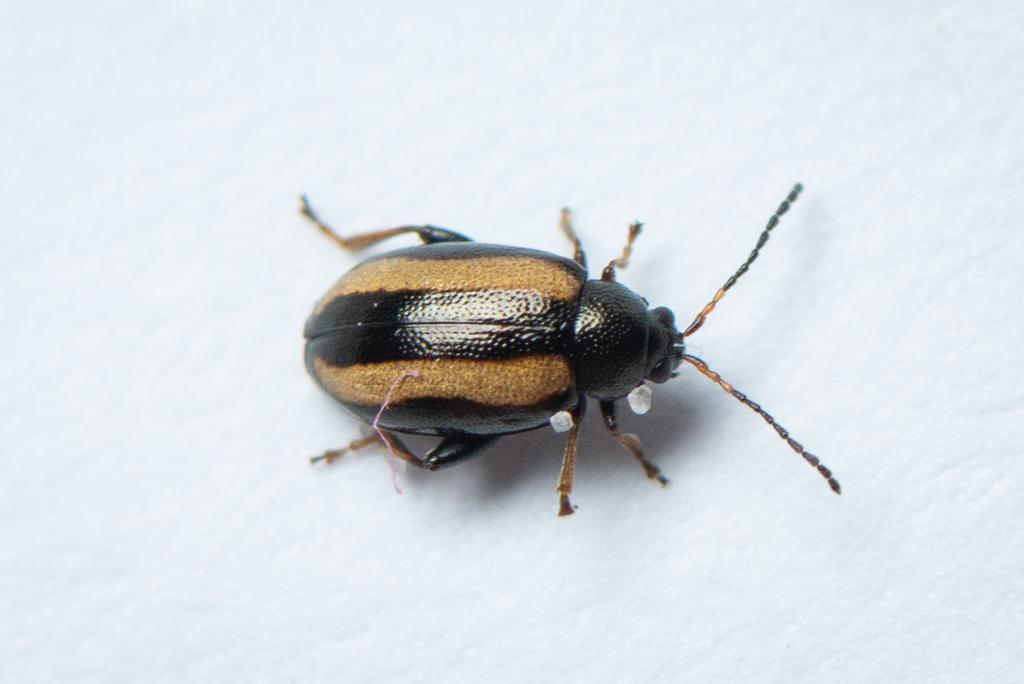flea_beetle: (203, 97, 949, 588)
